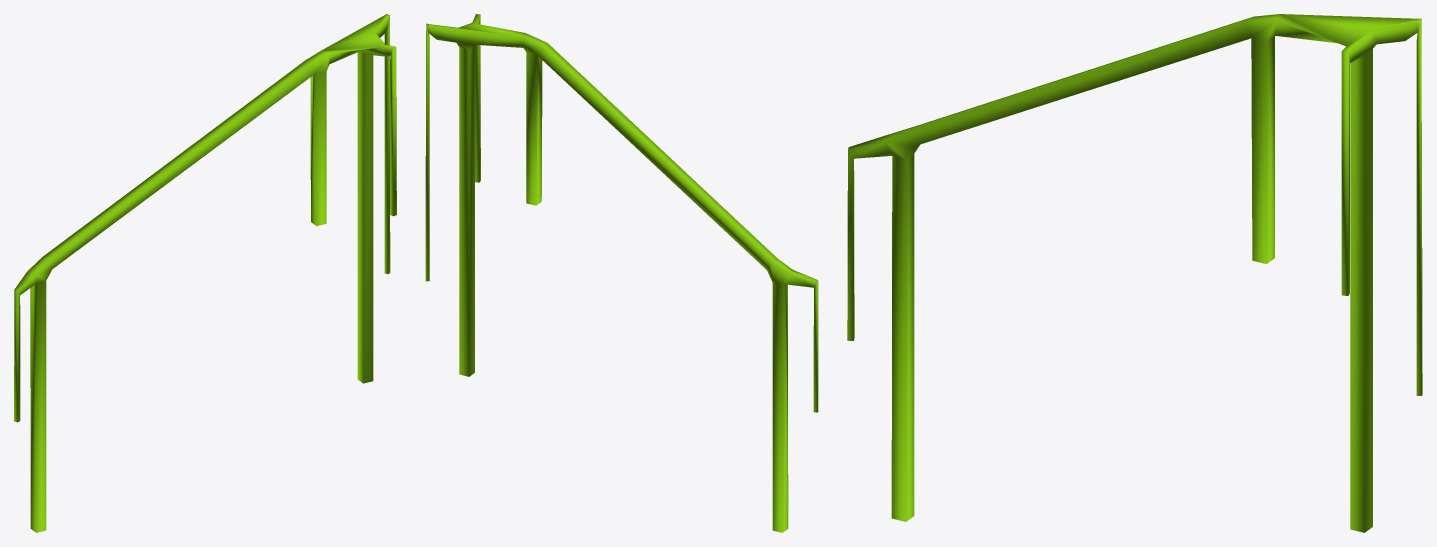
File: Moon-vines.obj
The picture shows the model from 3 angles, left to right: view 1: azimuth 30°, elevation 25°; view 2: azimuth 150°, elevation 25°; view 3: azimuth 330°, elevation 25°; orthographic projection. The views are drawn at different scales.
Visible parts, largest first — view 1: Cube.002_Cube.005; view 2: Cube.002_Cube.005; view 3: Cube.002_Cube.005.
Boxes of the visible parts, x1=… form: Cube.002_Cube.005: x1=14, y1=14, x2=396, y2=532; Cube.002_Cube.005: x1=425, y1=14, x2=818, y2=532; Cube.002_Cube.005: x1=847, y1=14, x2=1422, y2=532.
Size of the model in its own units: 19.46 by 20.53 by 2.73.
